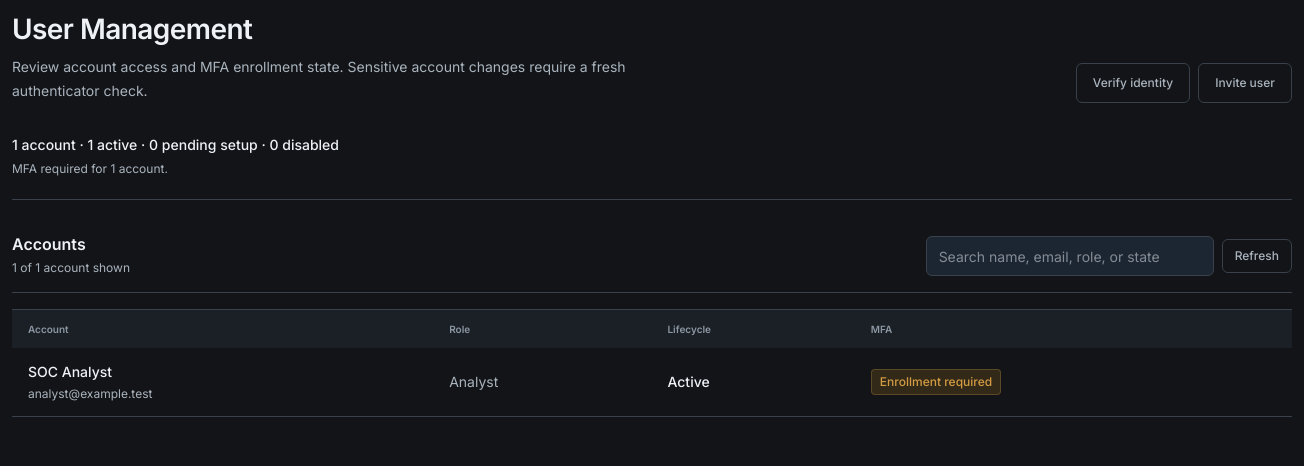
it: UserManagementWorkspace › shows a refresh failure instead of silently retaining stale account state
Click the button with aria-label "Refresh accounts".
click(1257, 256)  # box [1222,239,1292,273]
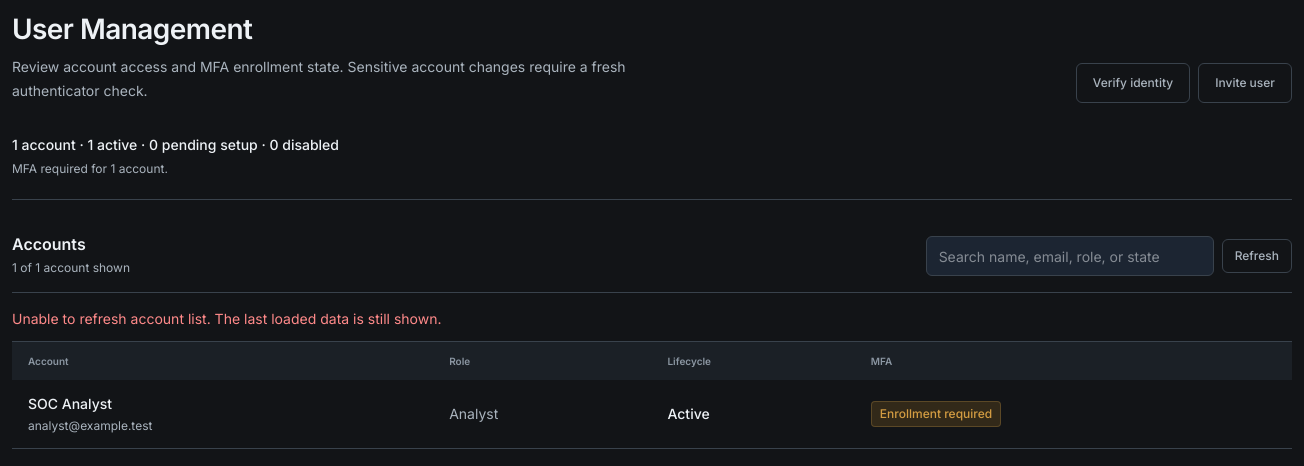
Expected: the button "SOC Analyst" is shown, [28,394,112,414]
Expected: the message shows "Unable to refresh account list", [12,310,442,327]
